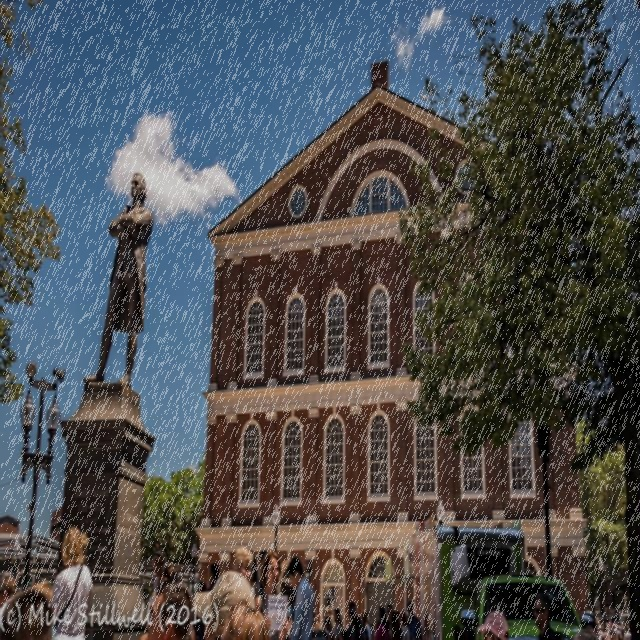pessoa: (81, 170, 155, 388), (52, 526, 94, 640), (193, 570, 256, 640), (136, 580, 202, 640), (254, 548, 291, 640), (523, 590, 578, 640), (287, 554, 317, 640), (218, 600, 268, 640), (476, 604, 523, 640), (0, 575, 18, 639), (190, 580, 208, 640), (598, 612, 630, 640), (232, 545, 254, 581), (370, 604, 390, 640), (406, 600, 424, 640), (346, 600, 363, 640), (152, 548, 166, 592), (278, 608, 296, 640), (32, 580, 54, 605), (386, 610, 404, 640), (204, 561, 220, 593), (350, 614, 366, 640), (331, 606, 343, 640), (452, 624, 477, 640), (161, 564, 180, 583), (574, 627, 600, 639), (371, 615, 384, 639), (401, 610, 411, 639), (80, 538, 90, 566), (312, 620, 324, 640), (324, 615, 334, 638), (365, 612, 372, 640), (324, 638, 421, 640), (386, 602, 392, 634), (362, 610, 369, 637), (286, 599, 294, 621), (141, 620, 150, 638), (312, 612, 320, 632), (324, 606, 332, 620), (339, 628, 348, 640), (312, 622, 318, 640), (396, 609, 402, 625), (49, 630, 58, 640), (344, 628, 350, 638), (292, 601, 295, 610), (370, 633, 375, 638), (324, 608, 326, 619)
